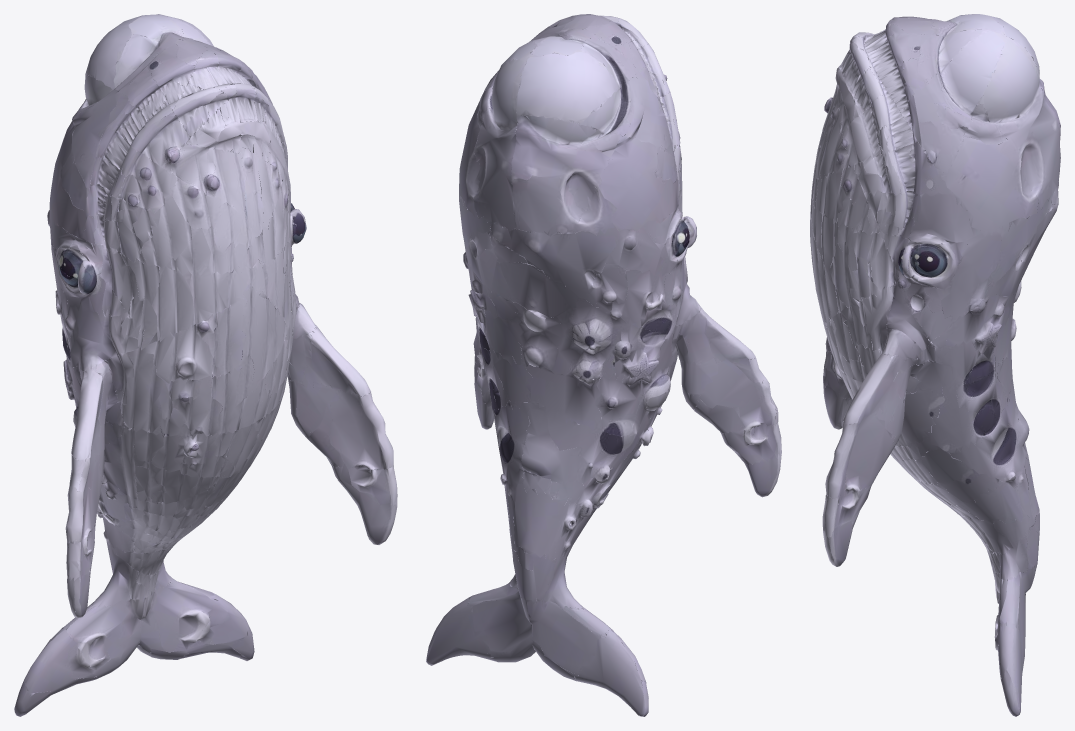
The picture shows the model from 3 angles, left to right: view 1: azimuth 30°, elevation 25°; view 2: azimuth 150°, elevation 25°; view 3: azimuth 270°, elevation 25°; orthographic projection. The views are drawn at different scales.
Parts seen in each view (by area): view 1: Mesh_0; view 2: Mesh_0; view 3: Mesh_0.
Part boxes in pixels (box(x1,y1,x2,y2)): Mesh_0: box(14, 14, 397, 716); Mesh_0: box(426, 14, 781, 716); Mesh_0: box(810, 14, 1060, 716).
Size of the model in its own units: 0.9601 by 1.9 by 0.671.
Materials: 1 (1 with a texture image).
